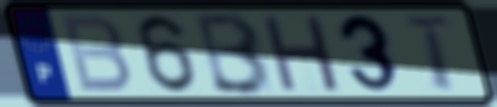3: (337, 10, 407, 97)
6: (135, 12, 199, 95)
B: (194, 10, 275, 97), (57, 12, 134, 94)
H: (258, 12, 344, 94)
T: (400, 14, 459, 93)
